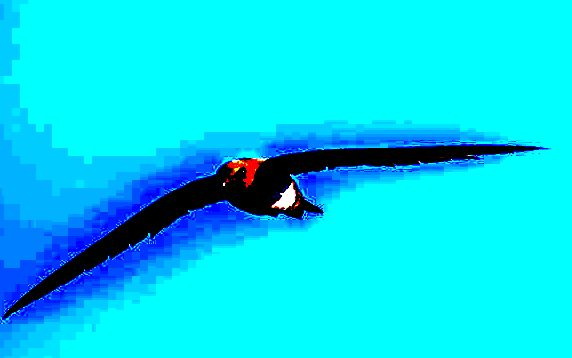Bird: (0, 137, 554, 326)
